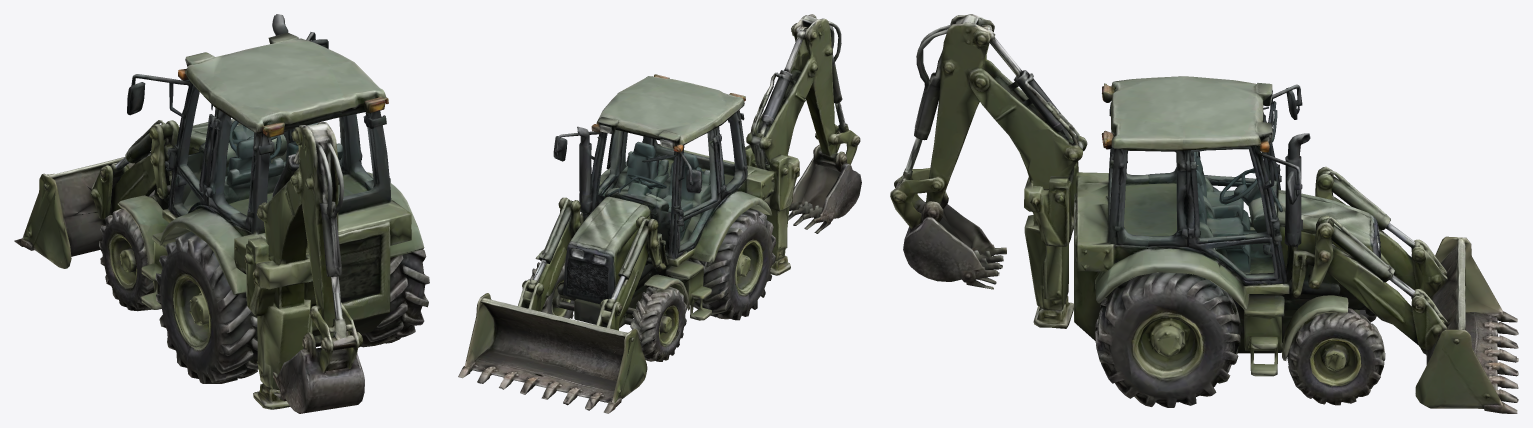
File: retroescavadeira_lod0.glb
3 renders of one model, left to right at view 1: azimuth 30°, elevation 25°; view 2: azimuth 150°, elevation 25°; view 3: azimuth 270°, elevation 25°, orthographic. The views are drawn at different scales.
Parts seen in each view (by area): view 1: tripo_node_5a973e00-a01d-42b4-81b0-b6793f32b988; view 2: tripo_node_5a973e00-a01d-42b4-81b0-b6793f32b988; view 3: tripo_node_5a973e00-a01d-42b4-81b0-b6793f32b988.
Boxes of the visible parts, x1,y1,x2,y2 form: tripo_node_5a973e00-a01d-42b4-81b0-b6793f32b988: (14, 14, 429, 413); tripo_node_5a973e00-a01d-42b4-81b0-b6793f32b988: (458, 14, 861, 413); tripo_node_5a973e00-a01d-42b4-81b0-b6793f32b988: (890, 14, 1518, 413).
Size of the model in its own units: 2.85 by 3.8 by 7.
1 material, 1 textured.
